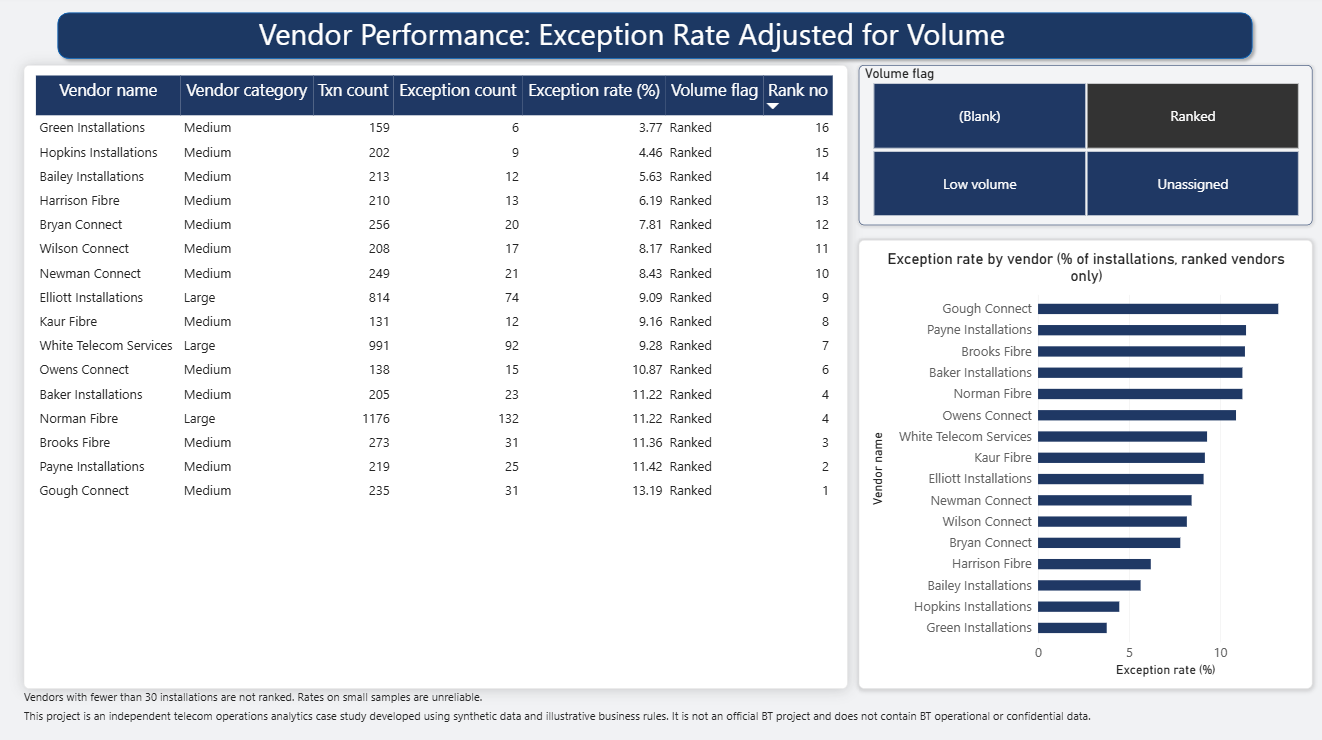

The page's visual inventory and layout, read from the dashboard file:
{"tool":"powerbi","page":{"name":"3 Vendor Performance","canvas":[1920,1080],"ordinal":2},"visuals":[{"type":"tableEx","fields":{"Values":["vendor_rate.vendor_name","vendor_rate.vendor_category","vendor_rate.txn_count","vendor_rate.exception_count","vendor_rate.exception_rate_pct","vendor_rate.volume_flag","vendor_rate.rank_no"]},"box":[34.4,101.3,1192.6,903],"z":0},{"type":"slicer","fields":{"Values":["vendor_rate.volume_flag"]},"box":[1243.2,101.3,656.9,231.6],"z":1000},{"type":"clusteredBarChart","title":"Exception rate by vendor (% of installations, ranked vendors only)","fields":{"Category":["vendor_rate.vendor_name"],"Y":["Sum(vendor_rate.exception_rate_pct)"]},"box":[1243.2,354.7,656.9,649.7],"z":2000},{"type":"textbox","box":[34.4,1004.4,1807.9,27.1],"z":3000},{"type":"shape","box":[74.2,16.3,1748.1,85.1],"z":4000},{"type":"textbox","box":[374.6,25.3,1293.9,94.1],"z":5000},{"type":"textbox","box":[34.4,1031.5,1570.8,34.4],"z":6000}]}

Visuals, with their boxes in screenshot pixels (x1, y1, x2, y2), scaled from the page's 1920x1080 canvas onto the 1322x740 screenshot:
tableEx - vendor_rate.vendor_name x vendor_rate.vendor_category: {"left": 24, "top": 69, "right": 845, "bottom": 688}
slicer - vendor_rate.volume_flag: {"left": 856, "top": 69, "right": 1308, "bottom": 228}
"Exception rate by vendor (% of installations, ranked vendors only)" clusteredBarChart: {"left": 856, "top": 243, "right": 1308, "bottom": 688}
textbox: {"left": 24, "top": 688, "right": 1269, "bottom": 707}
shape: {"left": 51, "top": 11, "right": 1255, "bottom": 69}
textbox: {"left": 258, "top": 17, "right": 1149, "bottom": 82}
textbox: {"left": 24, "top": 707, "right": 1105, "bottom": 730}
